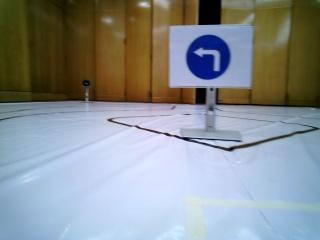left: (170, 22, 252, 88)
